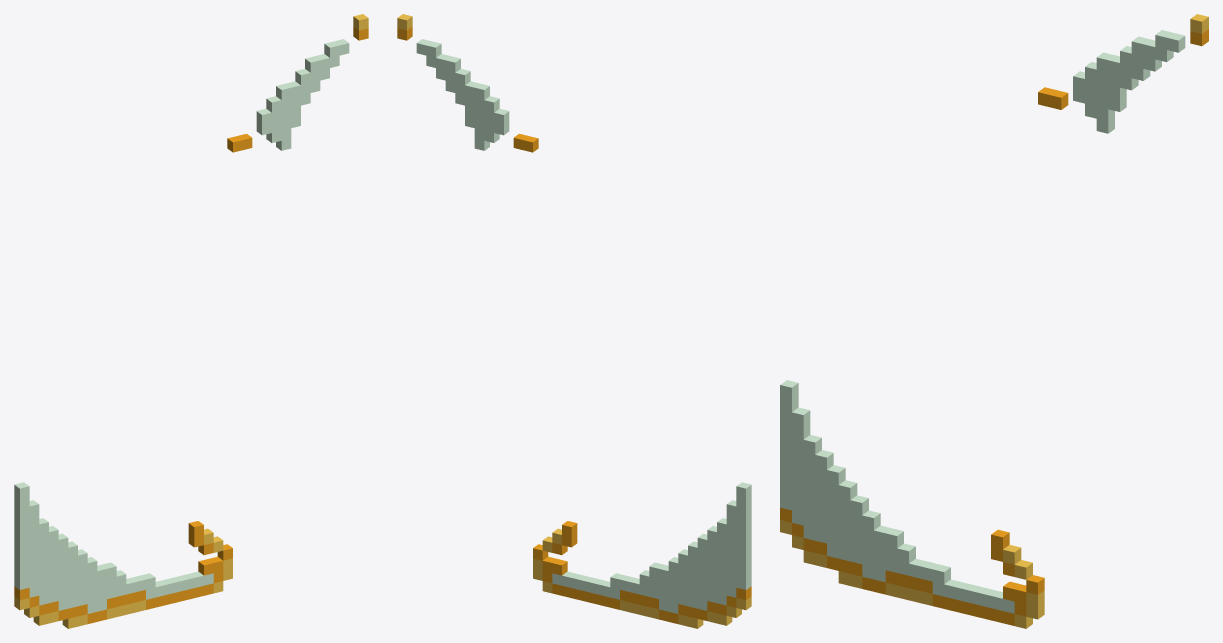
File: Fight_720_2_18_fx.obj
3 renders of one model, left to right at view 1: azimuth 30°, elevation 25°; view 2: azimuth 150°, elevation 25°; view 3: azimuth 330°, elevation 25°, orthographic. The views are drawn at different scales.
Size of the model in its own units: 3.6 by 5.3 by 0.1.
